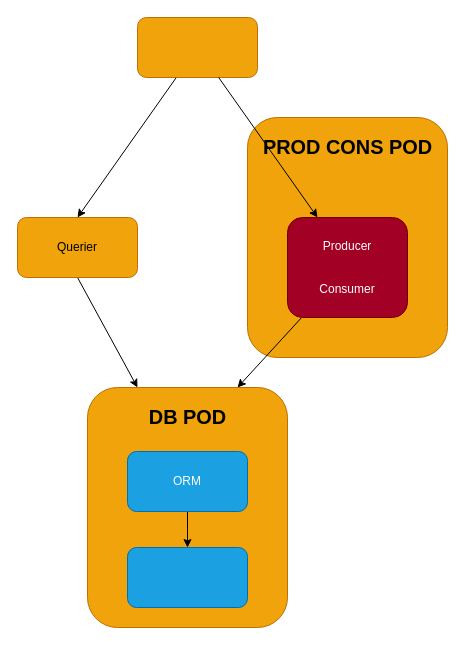
This 465x645 diagram has some shape labels left out. The shapes that lost their labels are listed below. From the top down, each one's centre as x and y in pixels, then its label:
At pixel 197 47: "GUI".
At pixel 187 577: "Database".
